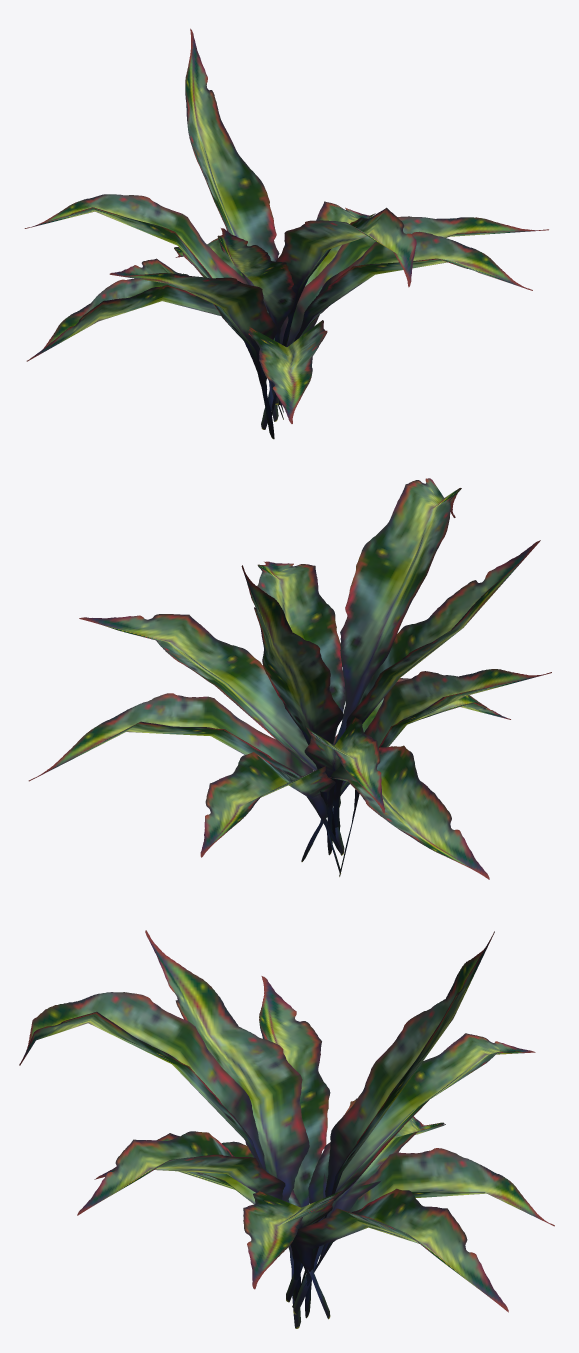
The model's file is S_Plant_Green036.FBX.
The picture shows the model from 3 angles, top to bottom: view 1: azimuth 30°, elevation 25°; view 2: azimuth 150°, elevation 25°; view 3: azimuth 270°, elevation 25°; orthographic projection. The views are drawn at different scales.
Parts seen in each view (by area): view 1: S_Plant_Green036; view 2: S_Plant_Green036; view 3: S_Plant_Green036.
Part boxes in pixels (x1,y1,x2,y2): S_Plant_Green036: (24,28,548,439); S_Plant_Green036: (28,478,551,879); S_Plant_Green036: (19,930,554,1328).
Size of the model in its own units: 223 by 195 by 165.
